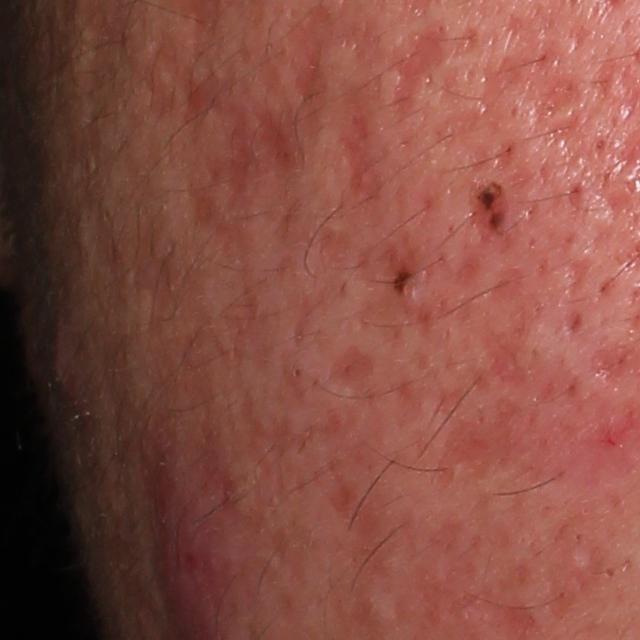atrophic_scar: (159, 129, 258, 343), (275, 4, 384, 112), (385, 20, 453, 120), (334, 87, 383, 205), (521, 75, 586, 151), (215, 99, 256, 200), (253, 95, 302, 178), (320, 343, 376, 388), (557, 308, 590, 339), (566, 260, 595, 294)
nevus: (467, 176, 512, 240), (386, 267, 419, 300)
